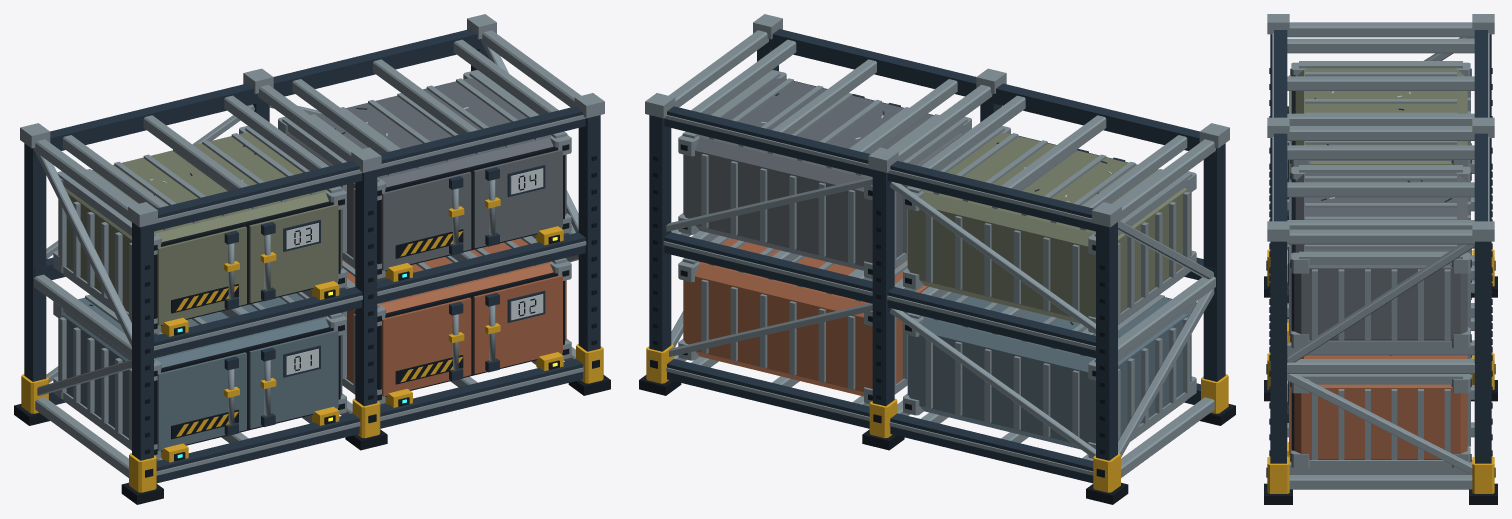
File: cargo_container_rack.glb
3 renders of one model, left to right at view 1: azimuth 30°, elevation 25°; view 2: azimuth 150°, elevation 25°; view 3: azimuth 270°, elevation 25°, orthographic. The views are drawn at different scales.
Parts seen in each view (by area): view 1: Pallet rack, floor shoes and cross bracing, Cargo container 03 and tie-down locks, Cargo container 04 and tie-down locks, Cargo container 01 and tie-down locks, Cargo container 02 and tie-down locks; view 2: Pallet rack, floor shoes and cross bracing, Cargo container 03 and tie-down locks, Cargo container 04 and tie-down locks, Cargo container 01 and tie-down locks, Cargo container 02 and tie-down locks; view 3: Pallet rack, floor shoes and cross bracing, Cargo container 04 and tie-down locks, Cargo container 02 and tie-down locks, Cargo container 03 and tie-down locks.
Boxes of the visible parts, bbox=[...] form: Pallet rack, floor shoes and cross bracing: bbox=[14, 14, 610, 504]; Cargo container 03 and tie-down locks: bbox=[53, 126, 346, 336]; Cargo container 04 and tie-down locks: bbox=[278, 70, 571, 281]; Cargo container 01 and tie-down locks: bbox=[53, 292, 346, 462]; Cargo container 02 and tie-down locks: bbox=[341, 236, 571, 407]; Pallet rack, floor shoes and cross bracing: bbox=[639, 14, 1235, 504]; Cargo container 03 and tie-down locks: bbox=[903, 126, 1196, 332]; Cargo container 04 and tie-down locks: bbox=[678, 70, 971, 278]; Cargo container 01 and tie-down locks: bbox=[903, 291, 1196, 458]; Cargo container 02 and tie-down locks: bbox=[678, 235, 928, 404]; Pallet rack, floor shoes and cross bracing: bbox=[1264, 14, 1497, 504]; Cargo container 04 and tie-down locks: bbox=[1287, 165, 1471, 348]; Cargo container 02 and tie-down locks: bbox=[1287, 292, 1471, 468]; Cargo container 03 and tie-down locks: bbox=[1287, 61, 1471, 199].
Bounding box in the file's own units: 10 × 5.8 × 4.5.
